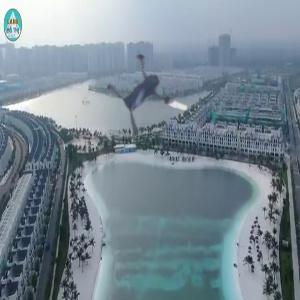drone: (93, 43, 210, 160)
